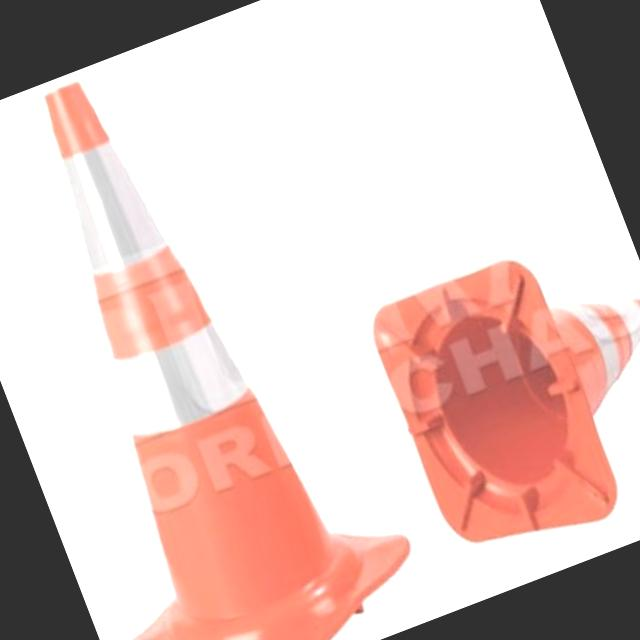cone: (0, 35, 417, 640), (363, 215, 640, 556)
